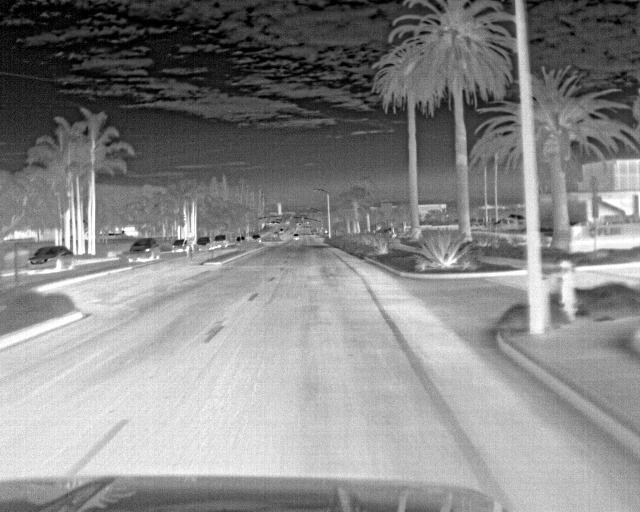car: (25, 243, 77, 274), (124, 236, 161, 264), (191, 236, 212, 253), (169, 239, 189, 255), (209, 235, 230, 250)
